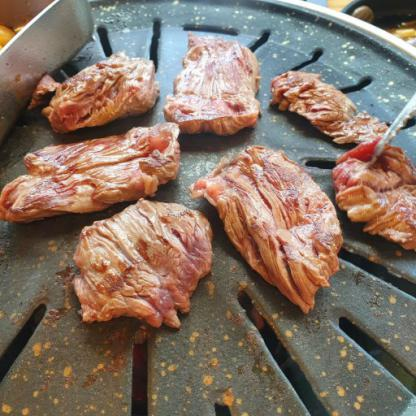Carne: (208, 149, 336, 285), (162, 31, 265, 139), (40, 52, 162, 132), (271, 66, 359, 145)
